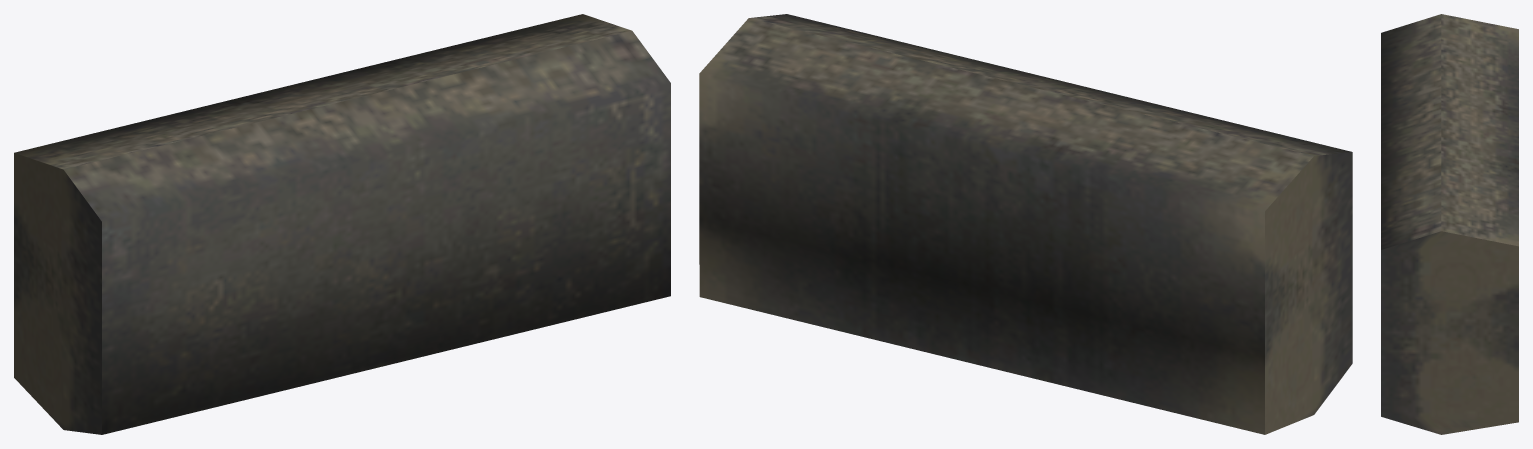
3 renders of one model, left to right at view 1: azimuth 30°, elevation 25°; view 2: azimuth 150°, elevation 25°; view 3: azimuth 270°, elevation 25°, orthographic. The views are drawn at different scales.
Parts seen in each view (by area): view 1: set_0_group_0; view 2: set_0_group_0; view 3: set_0_group_0.
Part boxes in pixels (box(x1,y1,x2,y2)): set_0_group_0: box(14, 14, 670, 434); set_0_group_0: box(699, 14, 1352, 434); set_0_group_0: box(1381, 14, 1518, 434).
Size of the model in its own units: 0.3127 by 0.1368 by 0.0839.
Materials: 1 (1 with a texture image).
